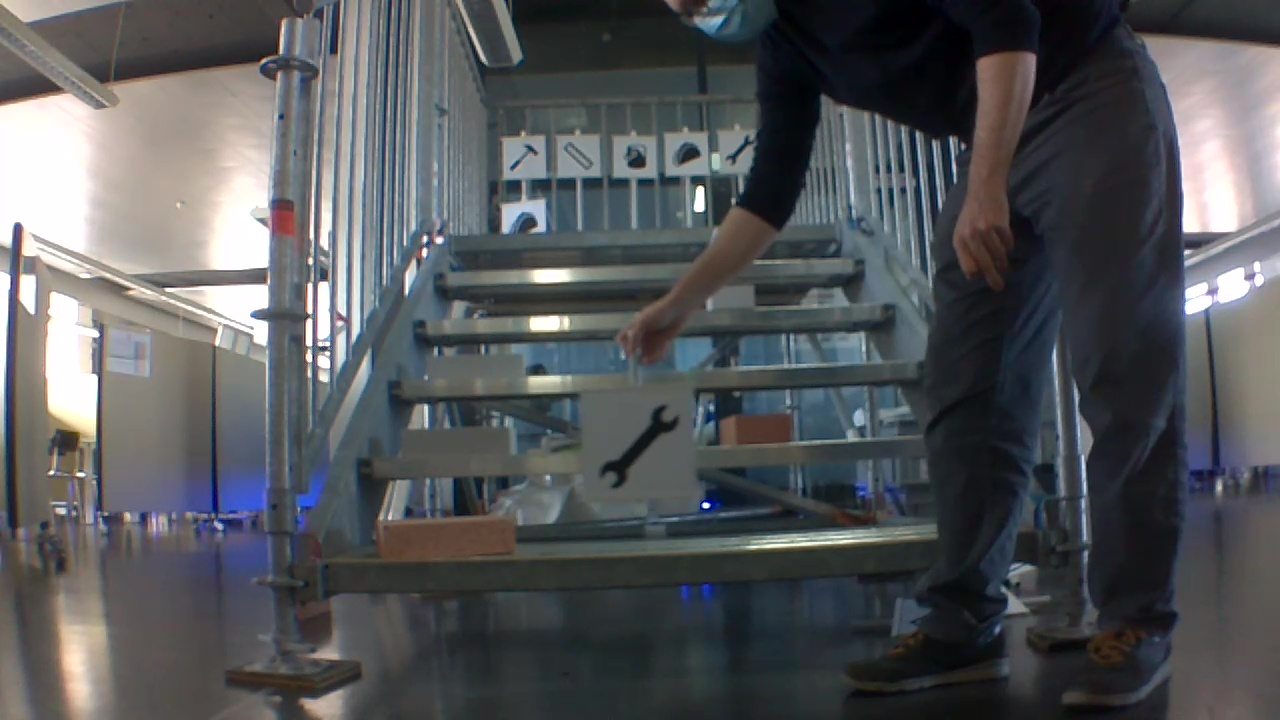brick: (378, 516, 511, 558), (403, 428, 515, 456), (428, 353, 526, 380), (720, 415, 790, 443), (712, 286, 755, 307)
bucket: (621, 141, 650, 172)
hammer: (504, 139, 541, 174)
ruler: (558, 139, 596, 173)
taco: (668, 139, 700, 171), (507, 208, 542, 235)
wrench: (592, 399, 685, 492), (723, 130, 755, 166)
